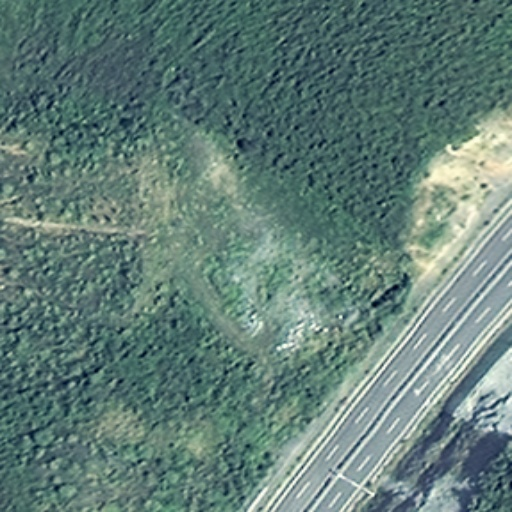landslide: (407, 115, 507, 254)
